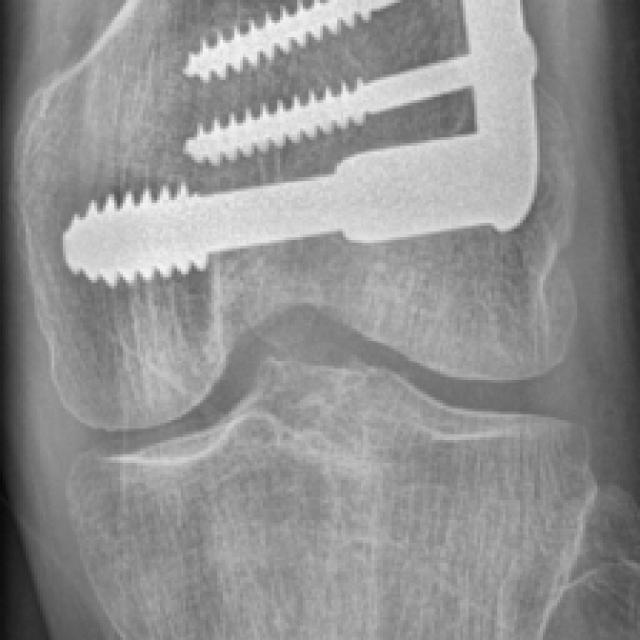femur: (16, 0, 577, 431)
tibia: (67, 357, 598, 640)
